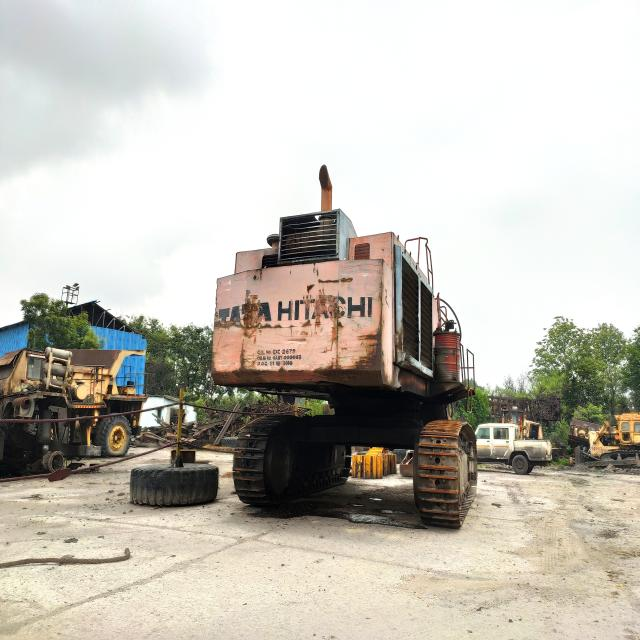excavator: (209, 169, 475, 529)
light_vehicle: (476, 422, 554, 473)
